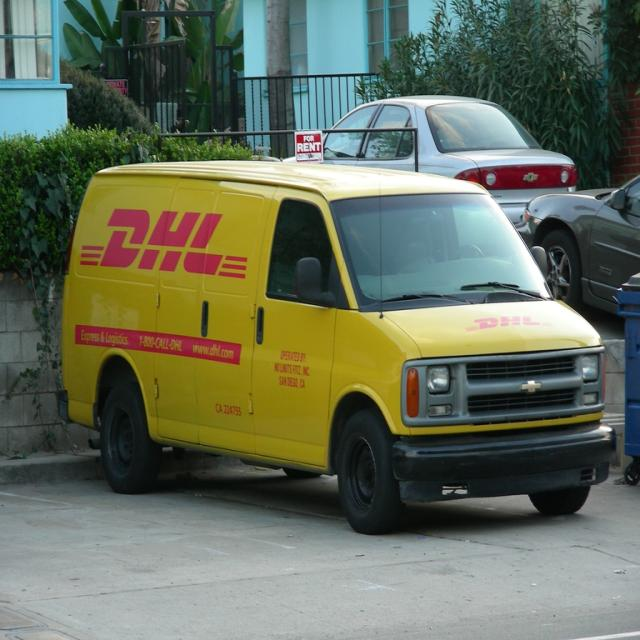dhl: (78, 206, 256, 285), (465, 316, 558, 334)
